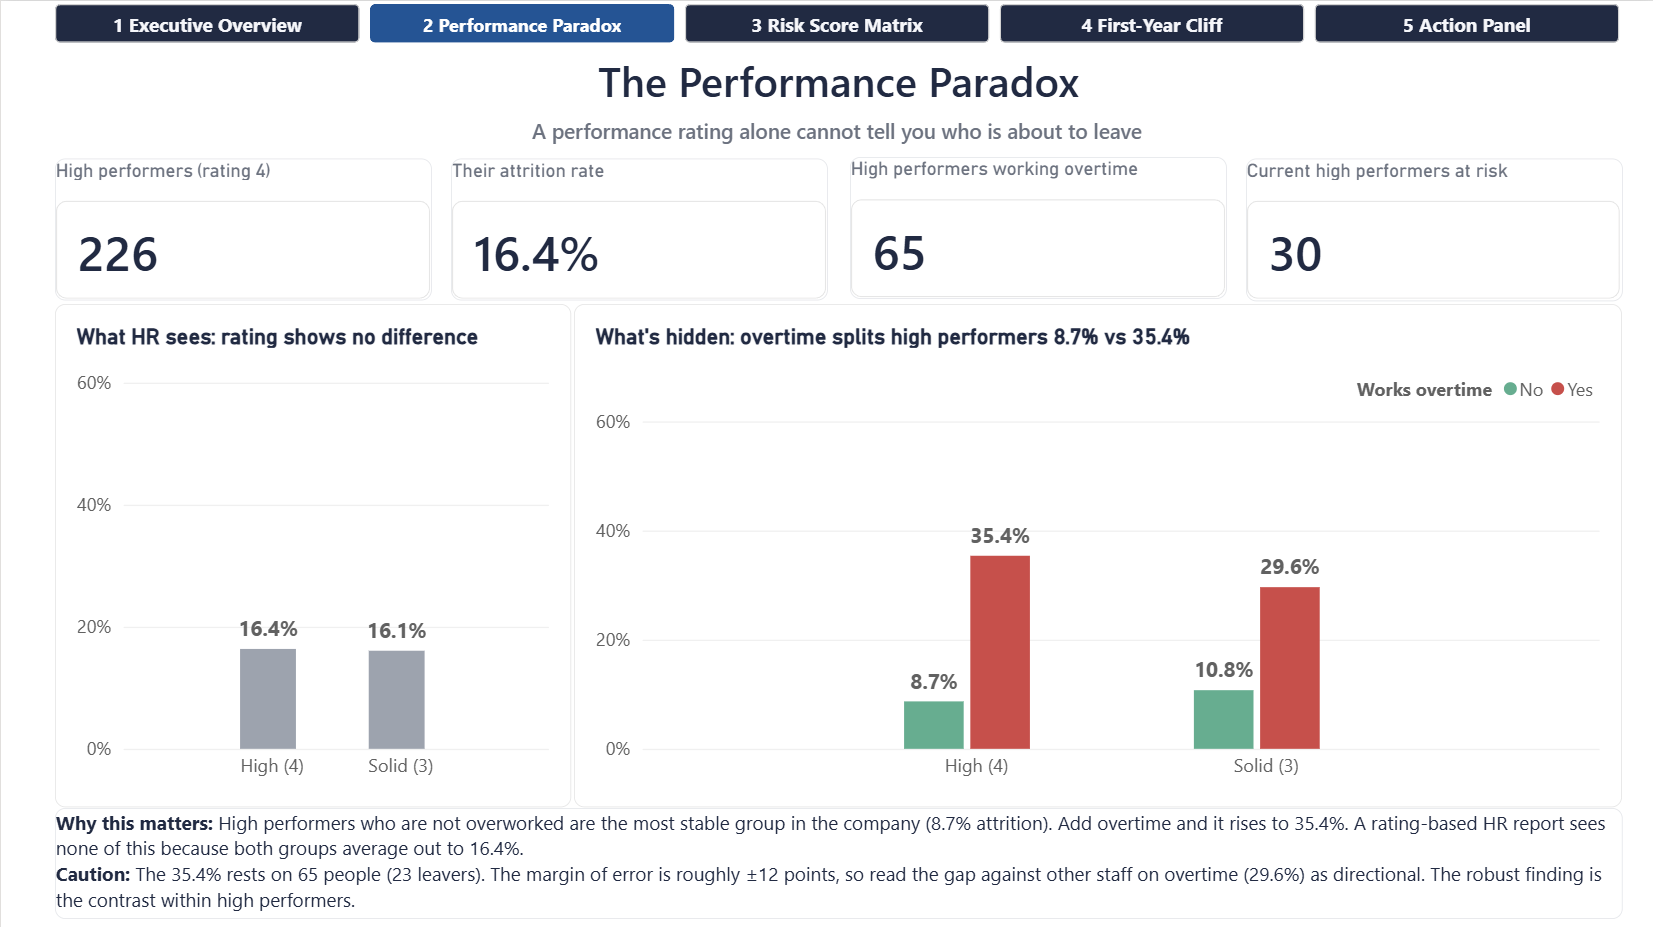

Layout of this report page (visuals, bound fields, positions):
{"tool":"powerbi","page":{"name":"2 Performance Paradox","canvas":[1280,720],"ordinal":2},"visuals":[{"type":"textbox","box":[41.8,39.5,1214.5,51.1],"z":0},{"type":"textbox","box":[41,89,1214,31.4],"z":1000},{"type":"cardVisual","title":"High performers (rating 4)","fields":{"Data":["select","_Measures.High Performers"]},"box":[41.8,122,292,110],"z":2000},{"type":"cardVisual","title":"Their attrition rate","fields":{"Data":["select","_Measures.High Performer Attrition"]},"box":[348.7,122,292,110],"z":3000},{"type":"cardVisual","title":"High performers working overtime","fields":{"Data":["select","_Measures.High Performers on Overtime"]},"box":[657.8,120.9,292,110],"z":4000},{"type":"cardVisual","title":"Current high performers at risk","fields":{"Data":["select","_Measures.Current High Performers at Risk"]},"box":[964.7,122,291.7,110.4],"z":5000},{"type":"clusteredColumnChart","title":"What HR sees: rating shows no difference","fields":{"Category":["employees.performance_label"],"Y":["_Measures.Attrition Rate"]},"box":[41.8,234.8,400,390],"z":6000},{"type":"clusteredColumnChart","title":"What''s hidden: overtime splits high performers 8.7% vs 35.4%","fields":{"Category":["employees.performance_label"],"Series":["employees.overtime"],"Y":["_Measures.Attrition Rate"]},"box":[444,234.8,812,390],"z":7000},{"type":"textbox","box":[41.8,625.3,1214.5,86],"z":8000},{"type":"pageNavigator","box":[41.8,2.3,1214.5,30.2],"z":8001}]}

Visuals, with their boxes in screenshot pixels (x1, y1, x2, y2), scaled from the page's 1280x720 canvas onto the 1653x927 screenshot:
textbox: {"x1": 54, "y1": 51, "x2": 1622, "y2": 117}
textbox: {"x1": 53, "y1": 115, "x2": 1621, "y2": 155}
"High performers (rating 4)" cardVisual: {"x1": 54, "y1": 157, "x2": 431, "y2": 299}
"Their attrition rate" cardVisual: {"x1": 450, "y1": 157, "x2": 827, "y2": 299}
"High performers working overtime" cardVisual: {"x1": 849, "y1": 156, "x2": 1227, "y2": 297}
"Current high performers at risk" cardVisual: {"x1": 1246, "y1": 157, "x2": 1623, "y2": 299}
"What HR sees: rating shows no difference" clusteredColumnChart: {"x1": 54, "y1": 302, "x2": 571, "y2": 804}
"What''s hidden: overtime splits high performers 8.7% vs 35.4%" clusteredColumnChart: {"x1": 573, "y1": 302, "x2": 1622, "y2": 804}
textbox: {"x1": 54, "y1": 805, "x2": 1622, "y2": 916}
pageNavigator: {"x1": 54, "y1": 3, "x2": 1622, "y2": 42}
